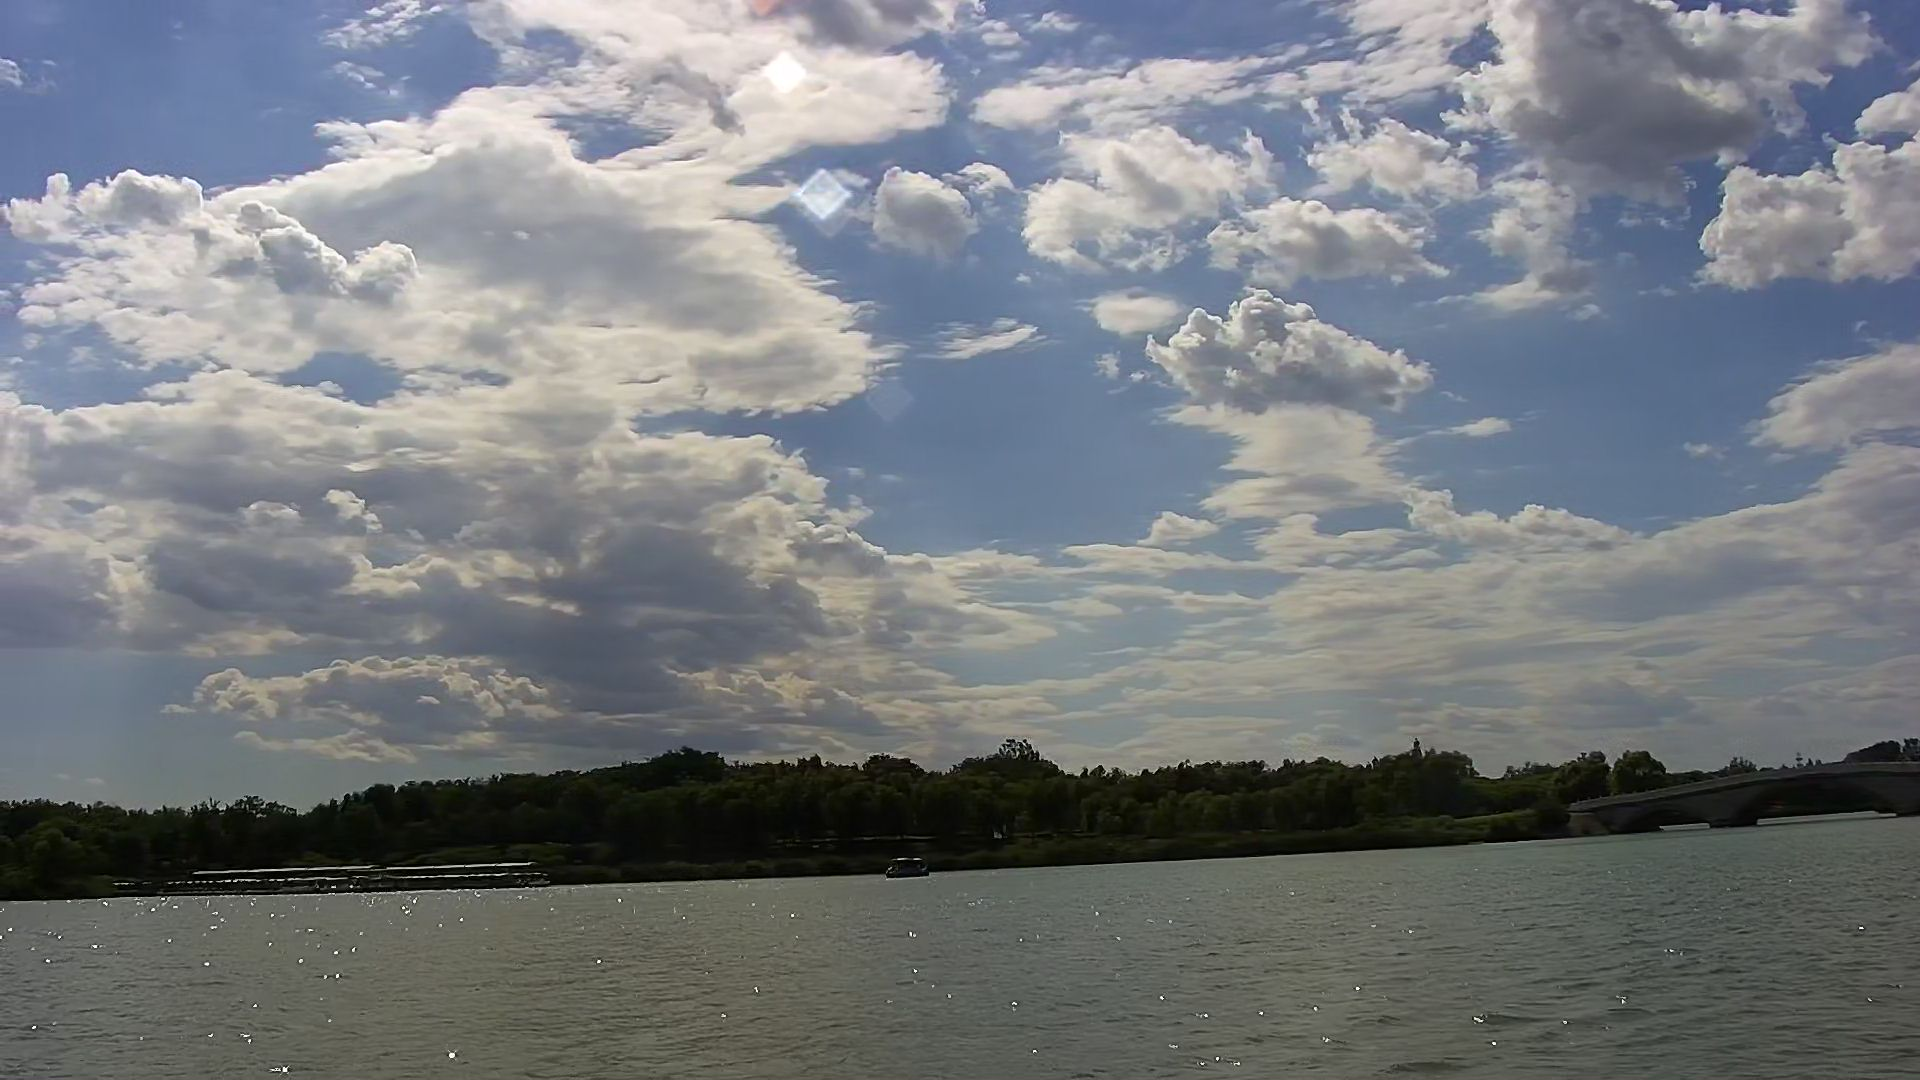boat: (878, 847, 938, 881)
bridge: (1567, 760, 1920, 833)
harbor: (186, 858, 542, 895)
